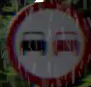No overtake: (7, 0, 89, 86)
